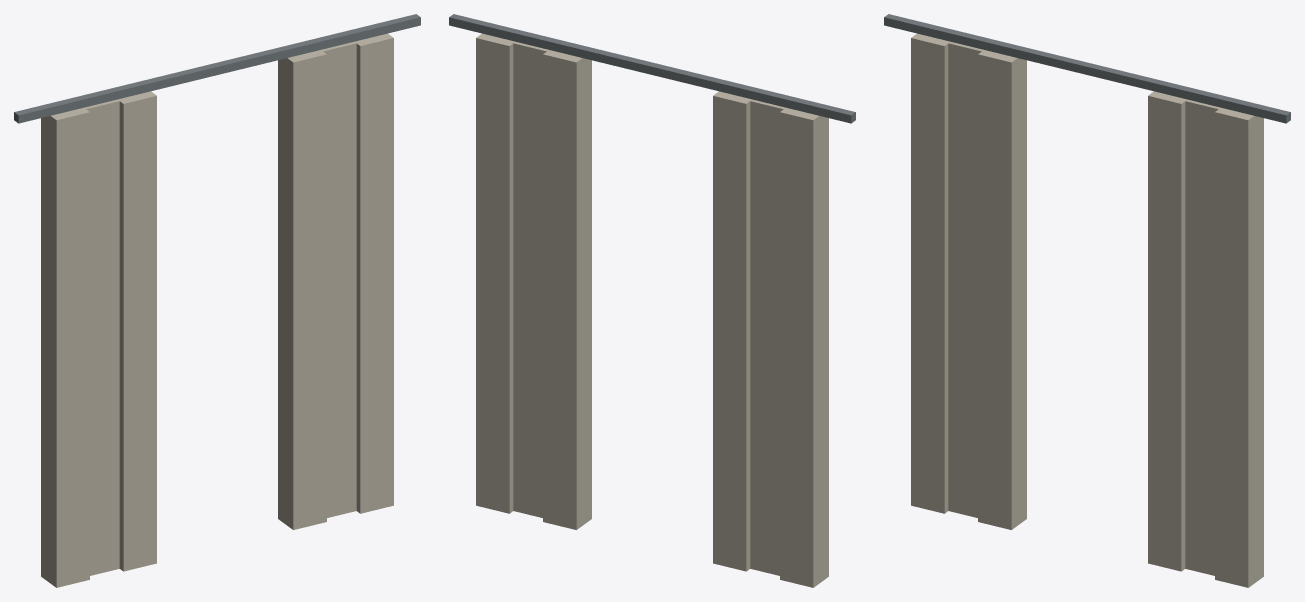
The model's file is curtain_apartment.glb.
3 views of the same model, side by side, from view 1: azimuth 30°, elevation 25°; view 2: azimuth 150°, elevation 25°; view 3: azimuth 330°, elevation 25° (orthographic).
Parts seen in each view (by area): view 1: body; view 2: body; view 3: body.
Part boxes in pixels (x1,y1,x2,y2): body: (14, 14, 420, 587); body: (449, 14, 855, 587); body: (884, 14, 1290, 587).
Size of the model in its own units: 1.8 by 2.04 by 0.12.
